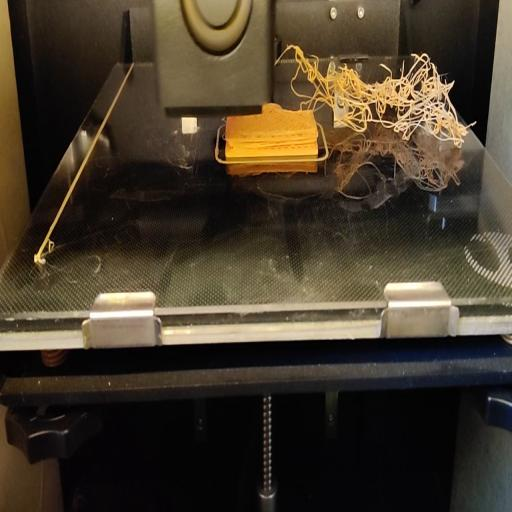spaghetti: (282, 40, 474, 146)
